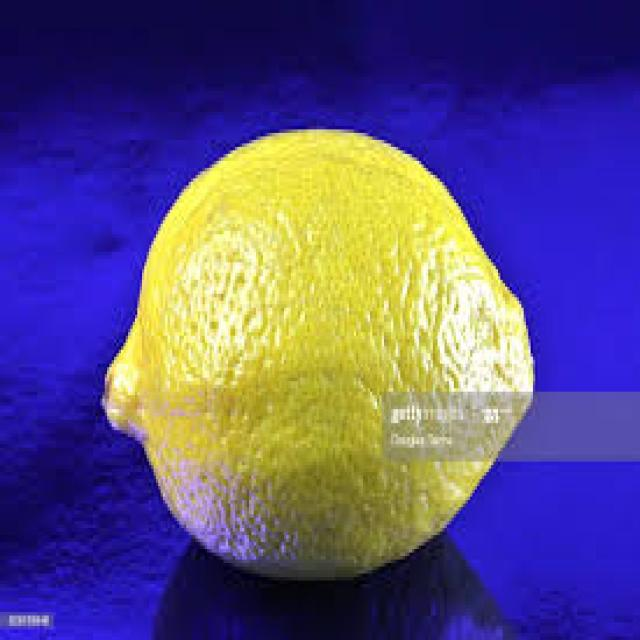Ripe: (101, 116, 540, 580)
